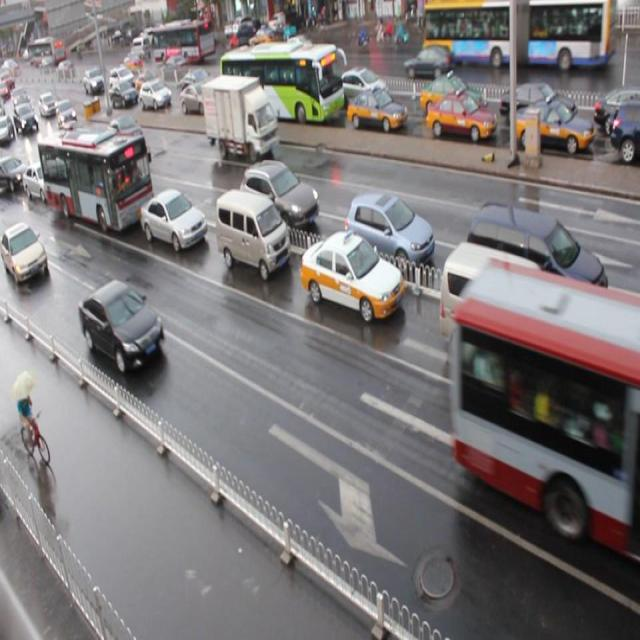bus: (200, 77, 280, 164)
car: (299, 228, 402, 322), (78, 279, 166, 374), (344, 193, 433, 274), (240, 158, 318, 234), (514, 99, 594, 159), (138, 187, 206, 252), (425, 92, 496, 143), (500, 82, 574, 128), (608, 331, 640, 435), (1, 223, 48, 287), (345, 86, 406, 134), (417, 76, 482, 121), (334, 65, 392, 110), (590, 92, 640, 134), (608, 99, 640, 160), (21, 158, 60, 203), (108, 116, 146, 154), (180, 83, 219, 114), (225, 69, 258, 104), (139, 80, 172, 112), (180, 69, 218, 96), (1, 154, 28, 190), (58, 123, 86, 154), (110, 81, 134, 110), (135, 69, 161, 92)
truck: (438, 240, 566, 388), (465, 200, 607, 332), (213, 187, 289, 281)
van: (451, 255, 640, 562), (37, 126, 154, 235), (216, 42, 339, 124)
